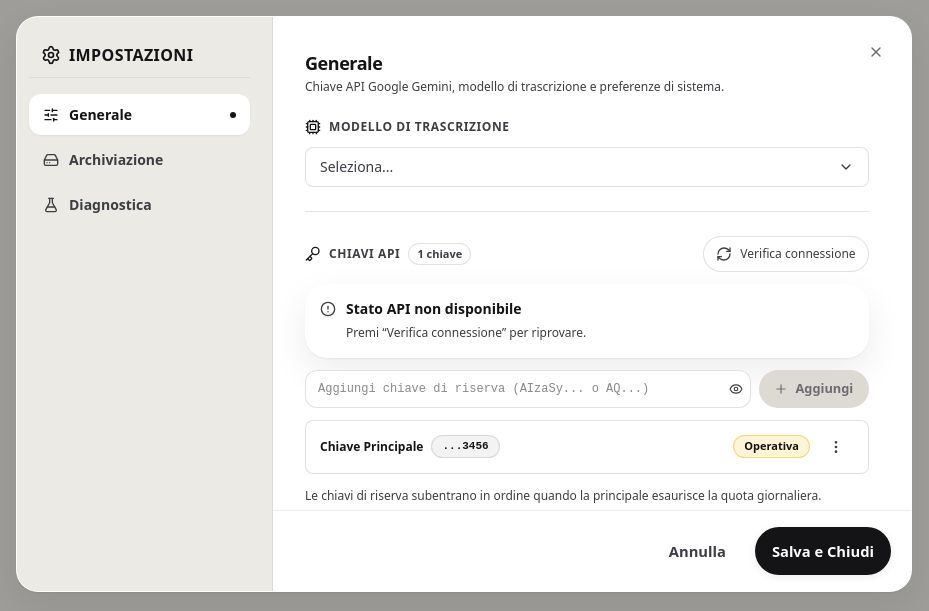
SettingsModal — save behavior › save_settings returns {ok:false}: modal stays open and shows backend error
Click the button "Salva e Chiudi": (823, 551) [755,527,891,575]
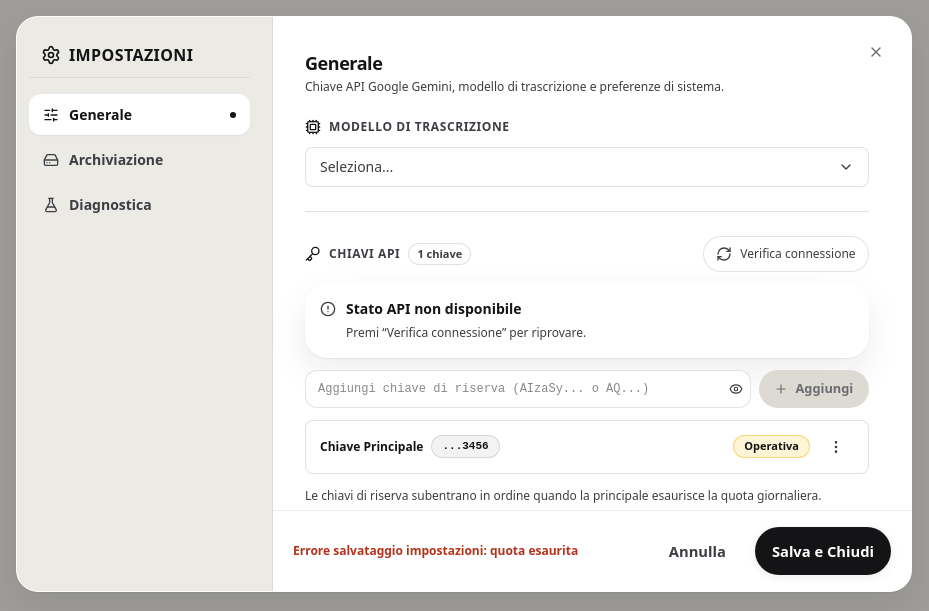
expect the text "Errore salvataggio impostazioni: quota esaurita" is shown: met, box [293,542,578,559]
